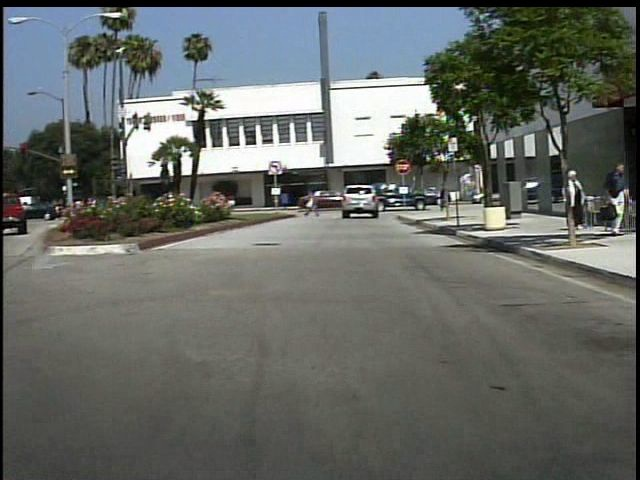person: (605, 160, 630, 239), (563, 170, 590, 230), (437, 179, 460, 214), (307, 186, 324, 219)
